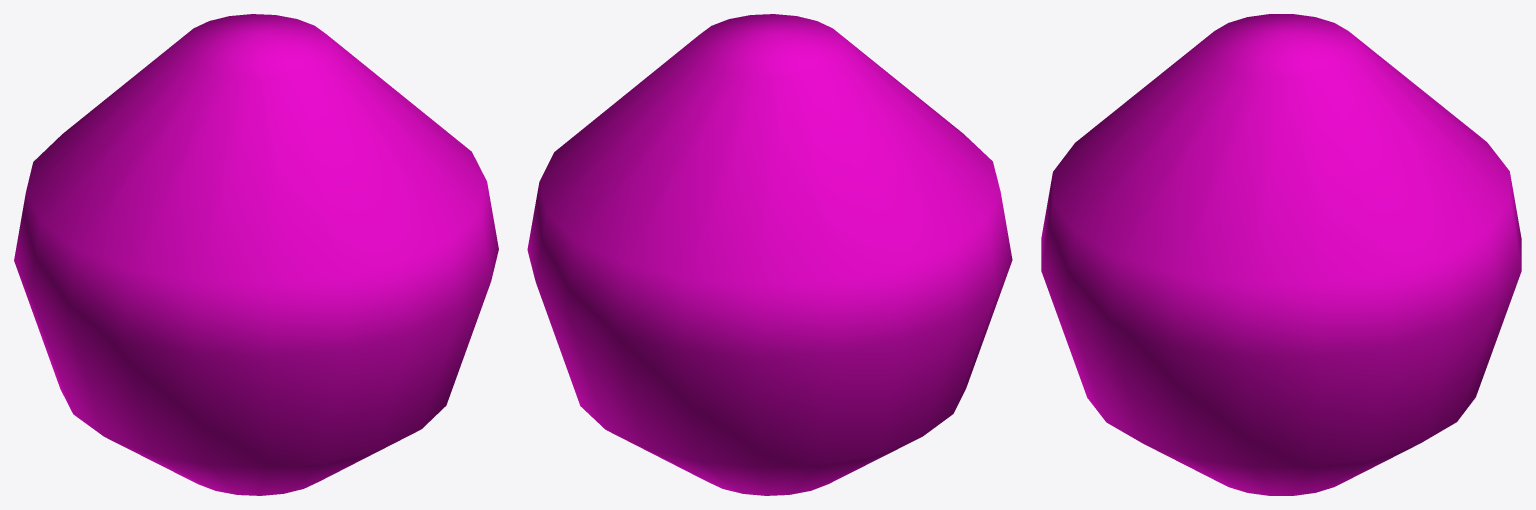
File: geo_EnemyTooth_2.fbx
3 views of the same model, side by side, from view 1: azimuth 30°, elevation 25°; view 2: azimuth 150°, elevation 25°; view 3: azimuth 270°, elevation 25° (orthographic).
Visible parts, largest first — view 1: geo_EnemyToothEye_L; view 2: geo_EnemyToothEye_L; view 3: geo_EnemyToothEye_L.
Part boxes in pixels (x1,y1,x2,y2): geo_EnemyToothEye_L: (14,14,498,495); geo_EnemyToothEye_L: (527,14,1012,495); geo_EnemyToothEye_L: (1041,14,1521,495).
Bounding box in the file's own units: 18.28 × 18.5 × 18.28.
